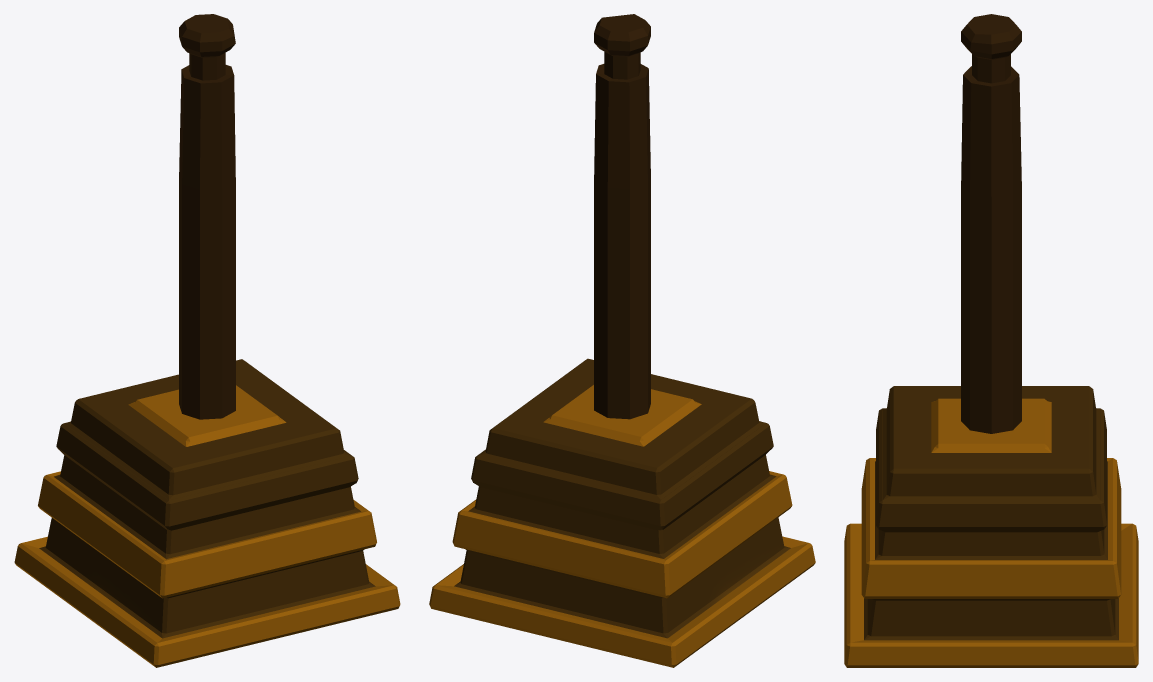
File: tesla_static.glb
3 views of the same model, side by side, from view 1: azimuth 30°, elevation 25°; view 2: azimuth 150°, elevation 25°; view 3: azimuth 270°, elevation 25° (orthographic). The views are drawn at different scales.
Parts seen in each view (by area): view 1: Cube, Circle.001; view 2: Cube, Circle.001; view 3: Cube, Circle.001.
Boxes of the visible parts, bbox=[...] form: Cube: bbox=[14, 359, 400, 667]; Circle.001: bbox=[179, 14, 235, 419]; Cube: bbox=[429, 358, 815, 667]; Circle.001: bbox=[594, 14, 650, 419]; Cube: bbox=[844, 386, 1138, 667]; Circle.001: bbox=[961, 14, 1021, 433].
Size of the model in its own units: 2.45 by 5.38 by 2.45.
2 materials, 1 textured.
